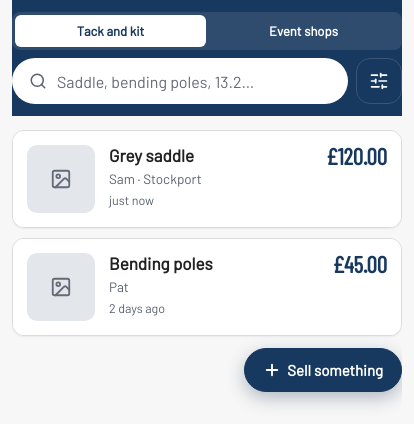
Test: the shop › searches the listings, and says when nothing matches
The width and height of the screenshot is (414, 424).
Expected: the text "Grey saddle" is shown, x1=109 y1=145 x2=194 y2=165
Type "poles" into the search field named "Search the shop" at (194, 81), box x1=57 y1=59 x2=331 y2=103
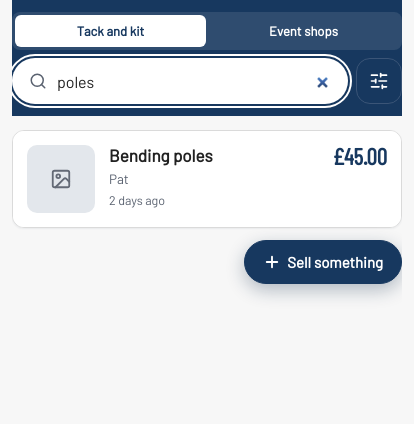
Expected: the text "Bending poles" is shown, x1=109 y1=145 x2=213 y2=165
Expected: the button "Grey saddle" is gone
Replace the text in the search field named "Search the shop" with "zzz" at (194, 81), box x1=57 y1=59 x2=331 y2=103
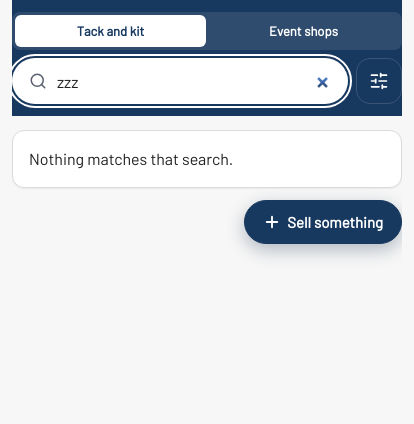
Expected: the text "Nothing matches that search." is shown, x1=12 y1=130 x2=402 y2=188
